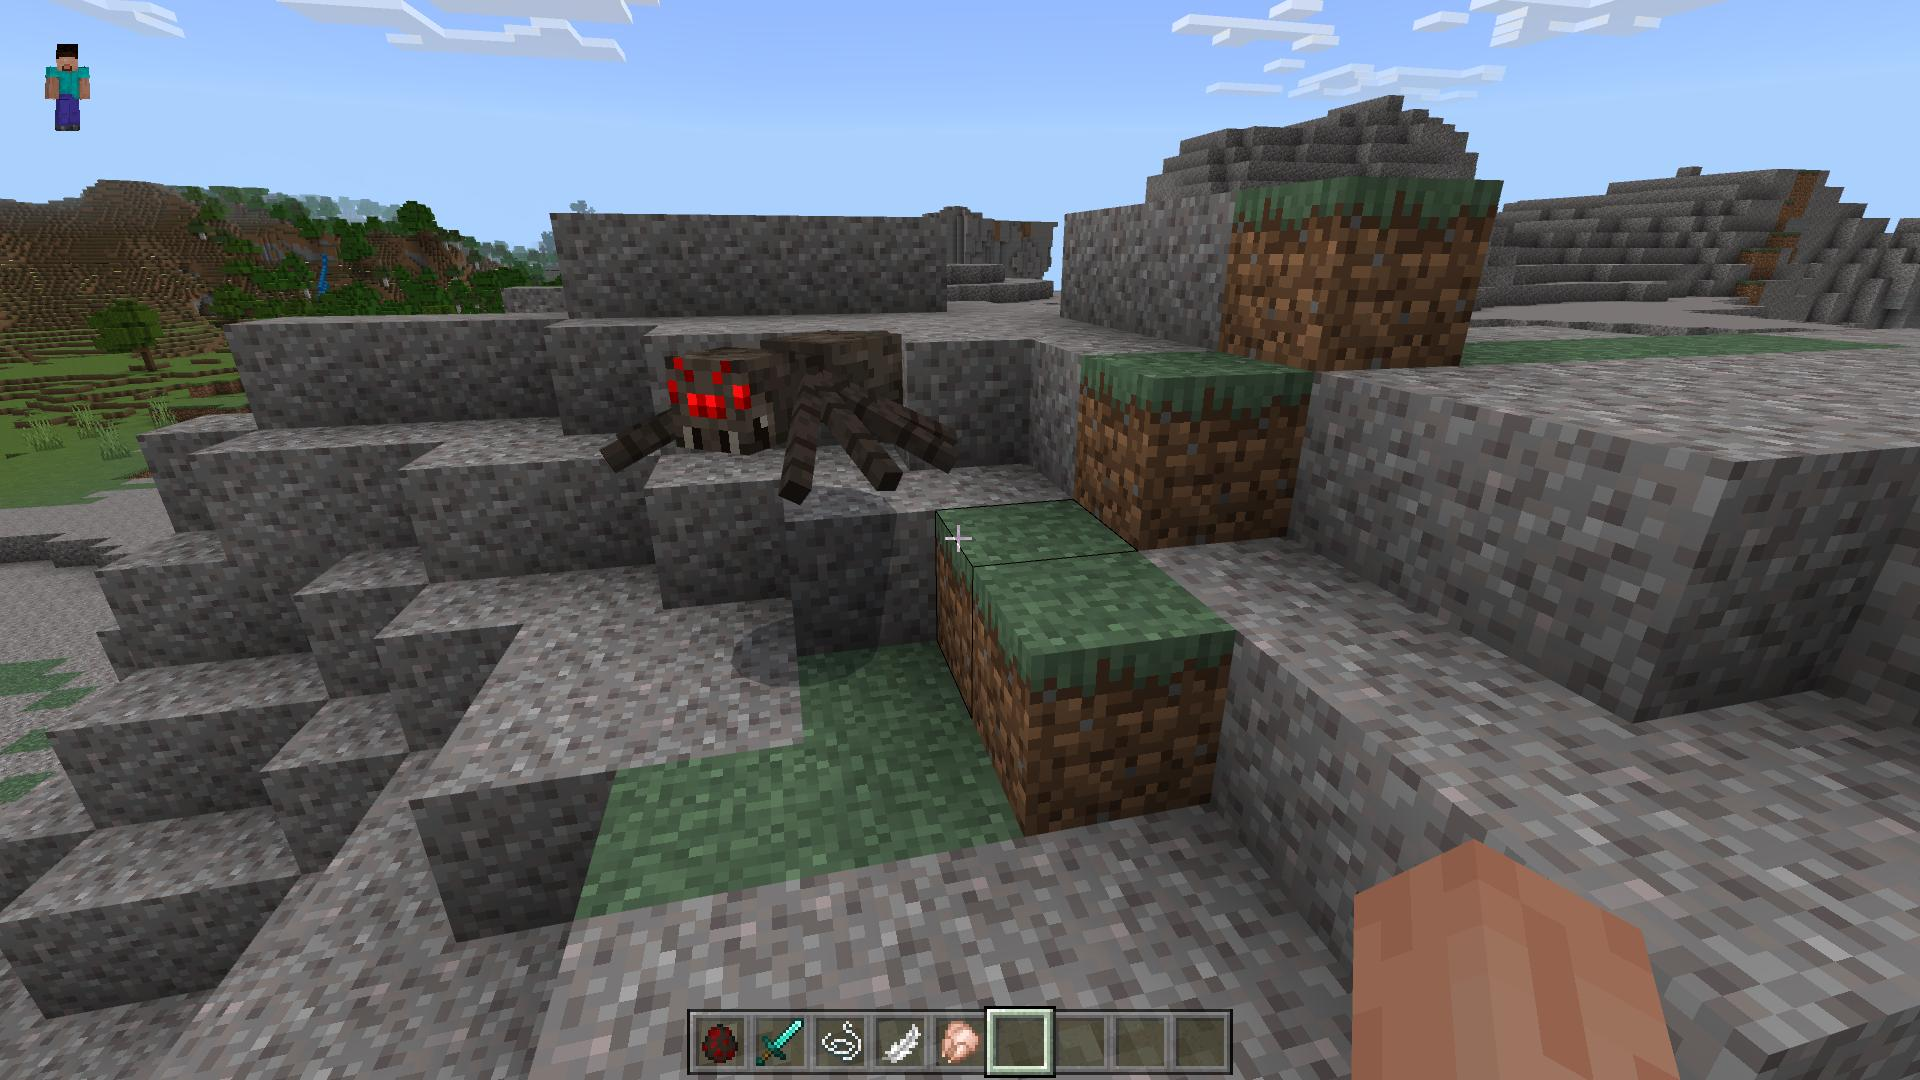spider: (601, 323, 961, 498)
